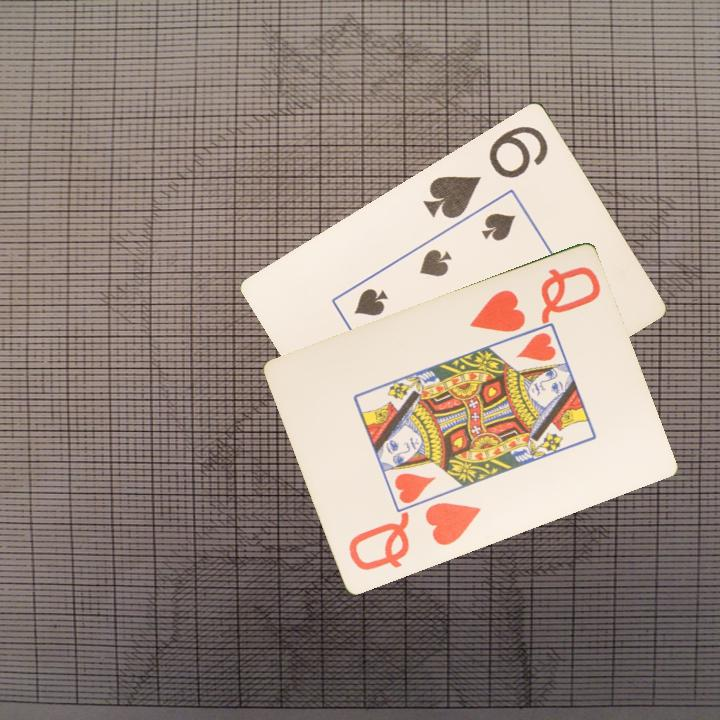6s: (419, 121, 552, 221)
Qh: (344, 499, 483, 575), (465, 263, 604, 336)
